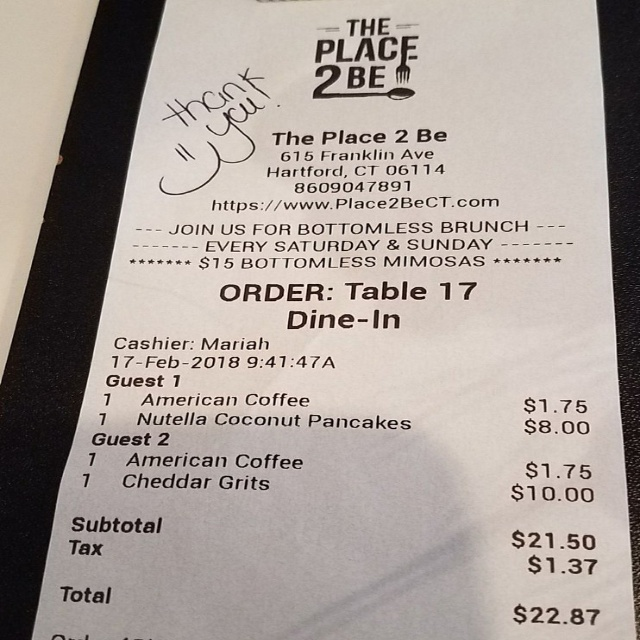invoice_table: (79, 369, 596, 503)
invoice_title: (266, 125, 446, 193)
invoice_total: (57, 582, 602, 629)
